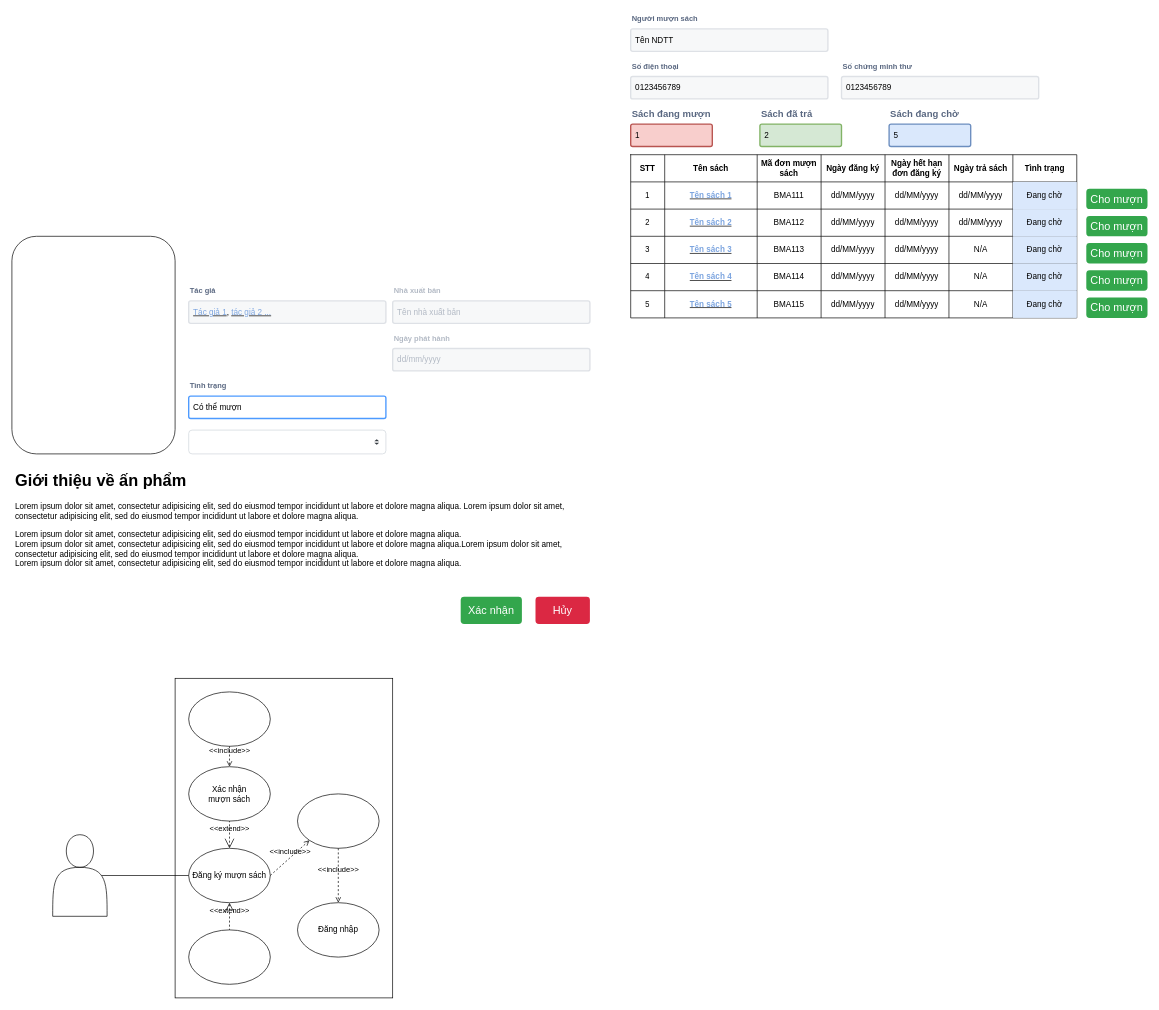
The diagram is 1159 pixels wide and 1010 high, and some of its shapes have lost their labels. The centre of each missing label's shape, as x and y in pixels:
"Hạn trả sách" goes at point (287, 441).
"Hủy việc đăng ký mượn sách" goes at point (229, 956).
"NDTT" goes at point (79, 875).
"Xem các sách có trong hệ thống" goes at point (338, 820).
"Xem danh sách các đơn mượn sách" goes at point (229, 718).
"Ảnh bìa sách" goes at point (93, 345).
